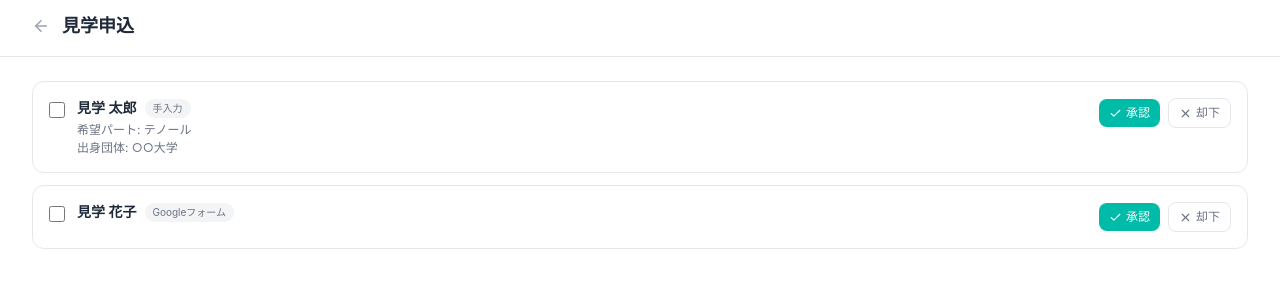
Test: VisitorApplicationsPage › 承認ボタンで該当行が消え、紹介メールの導線が表示される
The width and height of the screenshot is (1280, 306).
expect the text "見学 太郎" is shown: met, box [77,98,136,118]
Click the button "承認" in the row of "テノール" at (1130, 113), box [1099,99,1160,127]
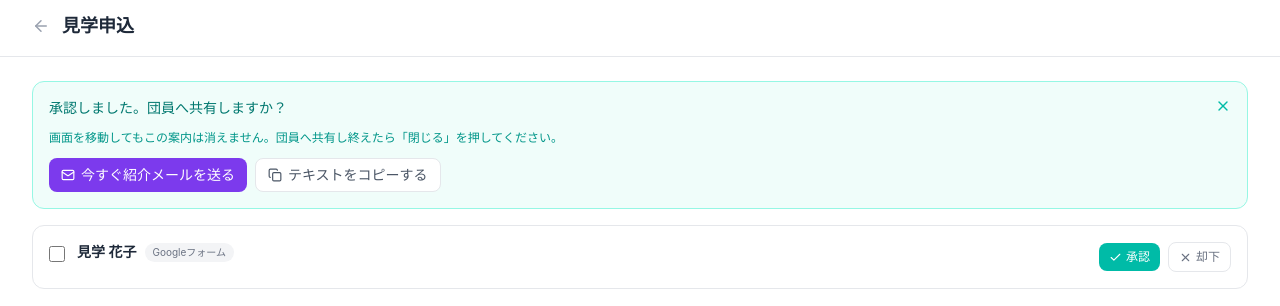
expect the text "見学 太郎" is gone: met
expect the text "承認しました。団員へ共有しますか？" is shown: met, box [49,98,287,118]
